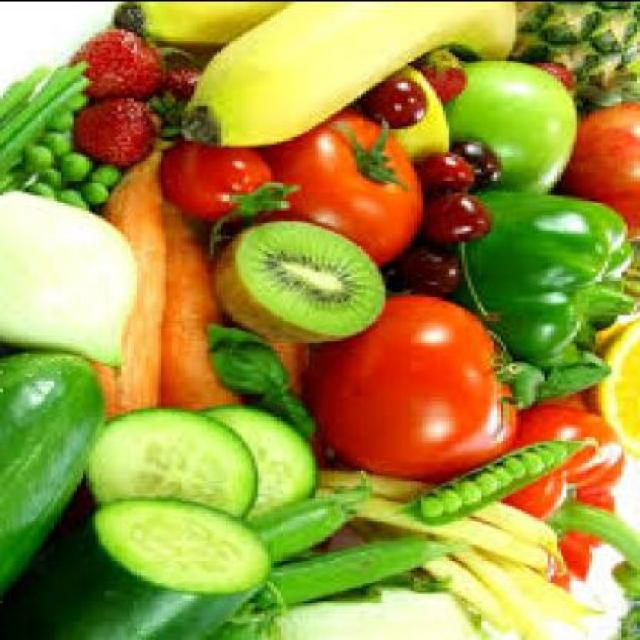BIODEGRADABLE: (184, 2, 522, 146), (326, 296, 532, 484), (3, 497, 275, 638), (443, 188, 634, 358), (509, 397, 638, 603), (322, 472, 570, 576), (3, 188, 143, 370), (270, 114, 430, 268), (6, 352, 105, 599), (366, 517, 552, 638), (216, 219, 389, 344), (321, 489, 557, 577), (101, 150, 172, 424), (89, 408, 262, 520), (362, 520, 520, 635), (449, 61, 583, 194), (166, 194, 246, 411), (398, 438, 582, 528), (512, 1, 638, 110), (274, 538, 455, 612), (208, 408, 322, 520), (210, 324, 322, 438), (162, 145, 300, 227), (560, 105, 638, 249), (121, 3, 299, 59), (264, 478, 376, 560), (3, 85, 92, 186), (478, 551, 608, 617), (3, 64, 95, 156), (384, 64, 456, 165), (80, 100, 185, 168), (592, 317, 638, 458), (76, 33, 169, 99), (203, 586, 300, 639), (503, 582, 589, 636), (394, 248, 468, 298), (426, 197, 497, 246), (369, 81, 434, 128), (271, 336, 315, 401), (417, 48, 468, 102), (3, 69, 51, 125), (455, 141, 503, 196), (420, 156, 478, 196), (454, 591, 501, 638), (312, 586, 388, 608), (617, 237, 638, 309), (542, 63, 583, 97), (165, 70, 201, 104), (385, 573, 449, 592), (57, 159, 98, 183), (22, 151, 58, 175), (443, 490, 465, 518), (45, 135, 73, 156), (42, 168, 66, 192), (478, 474, 502, 497), (535, 448, 560, 470), (462, 482, 484, 507), (525, 454, 547, 477), (64, 194, 91, 209), (29, 186, 60, 199), (497, 466, 515, 488), (427, 499, 445, 521), (549, 446, 573, 462), (55, 115, 76, 133), (510, 462, 528, 480), (77, 97, 92, 109)
